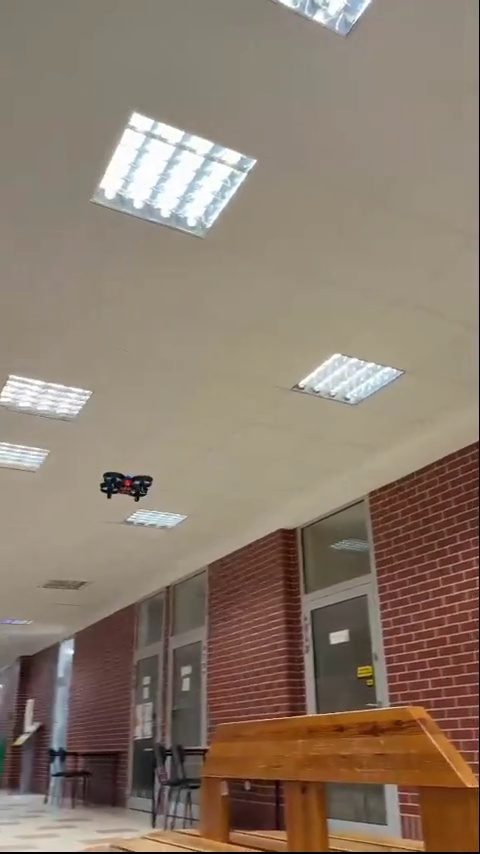drone: (96, 468, 155, 504)
